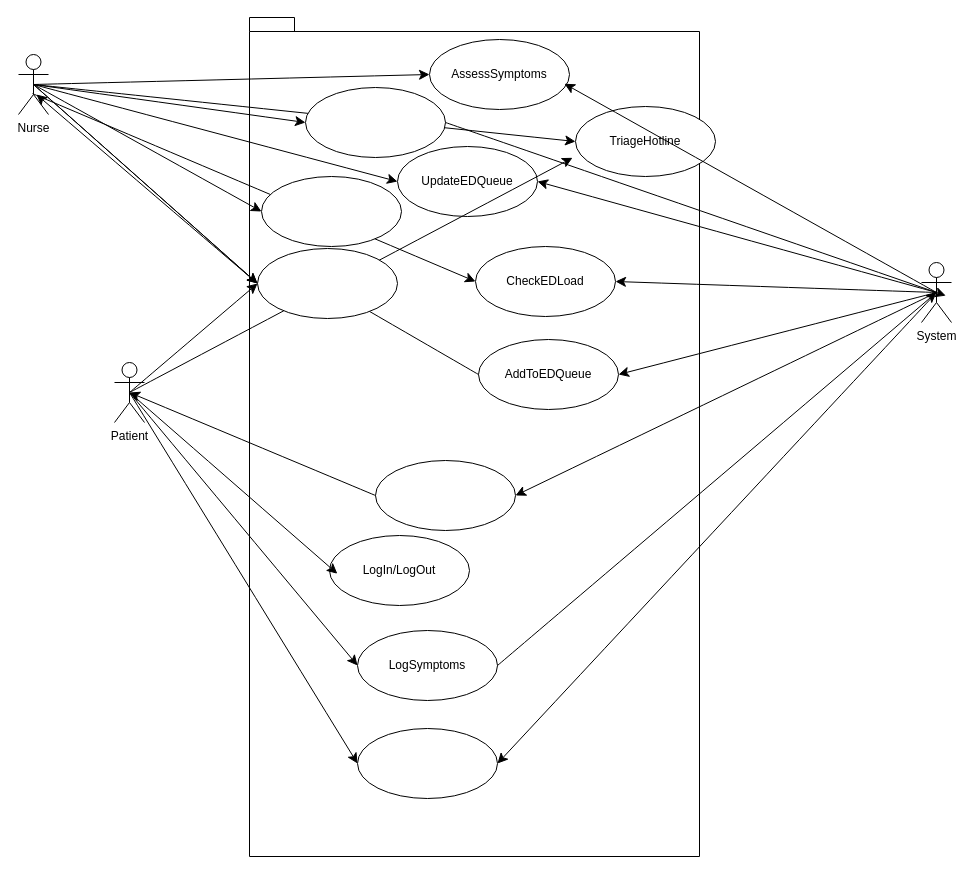
This 973x874 diagram has some shape labels left out. The centre of each missing label's shape, as x and y in pixels:
"InPersonTriage" belongs at (327,283).
"RecommendED" belongs at (445,495).
"RecommendTreatment" belongs at (331,211).
"SendNotification" belongs at (427,763).
"ViewEDQueue" belongs at (375,122).
